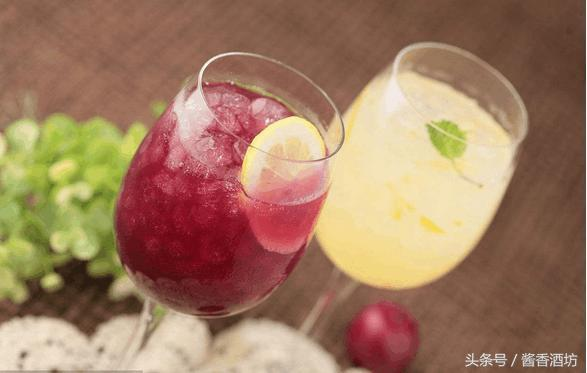apple: (341, 300, 419, 369)
